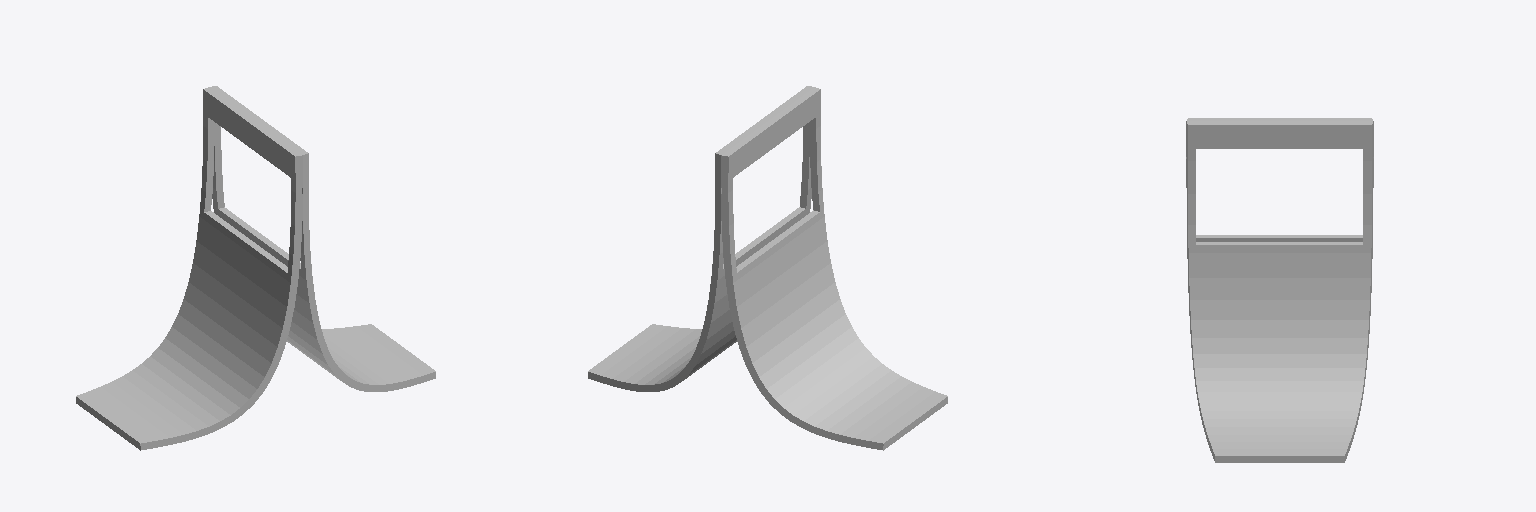
The model's file is table0.obj.
The picture shows the model from 3 angles: view 1: azimuth 30°, elevation 25°; view 2: azimuth 150°, elevation 25°; view 3: azimuth 270°, elevation 25°; orthographic projection.
Size of the model in its own units: 16.42 by 14.3 by 9.